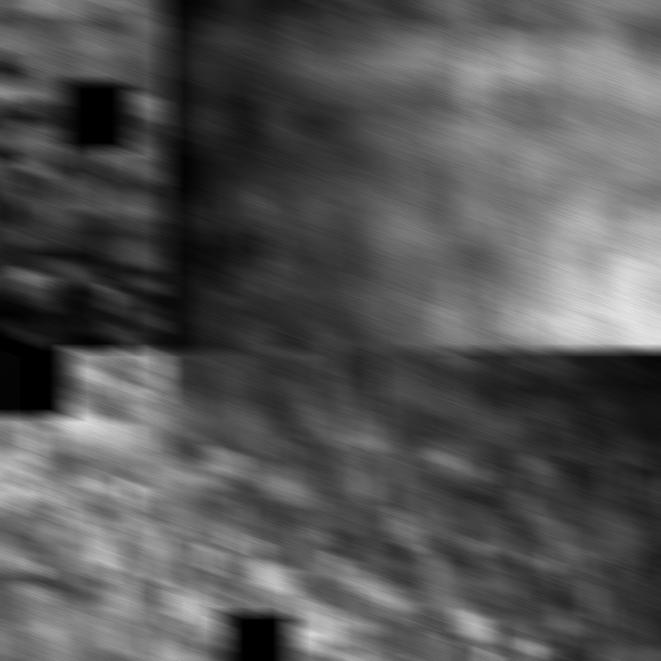Airbag: (160, 348, 661, 661), (0, 0, 169, 351), (0, 348, 169, 661)
